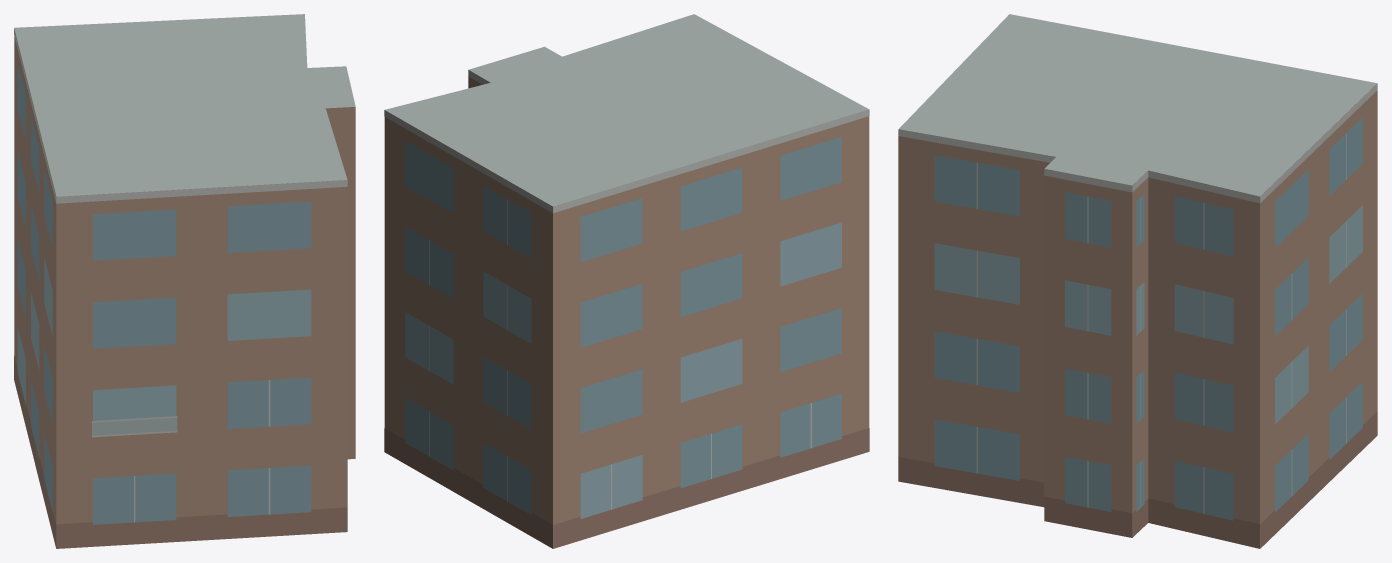
The model's file is survey-upis-32534555.glb.
3 renders of one model, left to right at view 1: azimuth 30°, elevation 25°; view 2: azimuth 150°, elevation 25°; view 3: azimuth 270°, elevation 25°, orthographic. The views are drawn at different scales.
Visible parts, largest first — view 1: survey-upis-32534555.tmp; view 2: survey-upis-32534555.tmp; view 3: survey-upis-32534555.tmp.
Part boxes in pixels (x1=…): survey-upis-32534555.tmp: x1=14, y1=14, x2=355, y2=548; survey-upis-32534555.tmp: x1=384, y1=14, x2=869, y2=548; survey-upis-32534555.tmp: x1=898, y1=14, x2=1377, y2=548.
Size of the model in its own units: 13.9 by 12.5 by 15.41.
